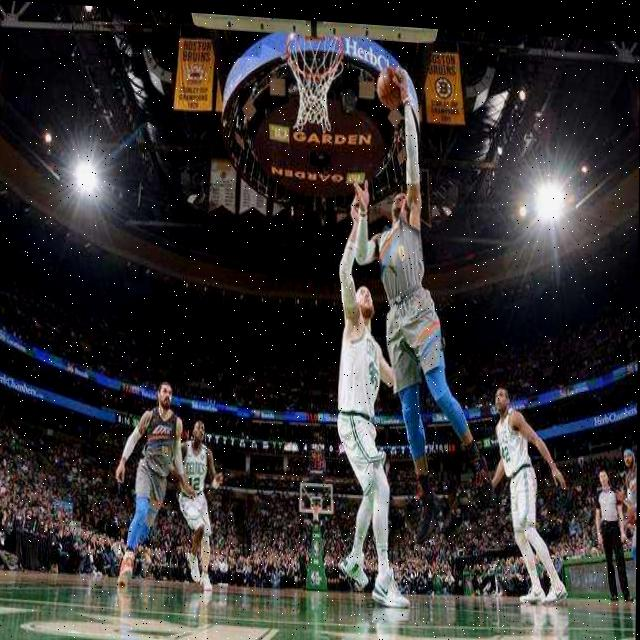basketball: (376, 67, 405, 114)
hoop: (284, 28, 345, 134)
